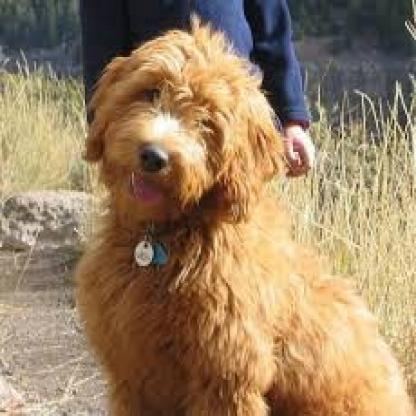portuguese water dog: (55, 34, 409, 416)
